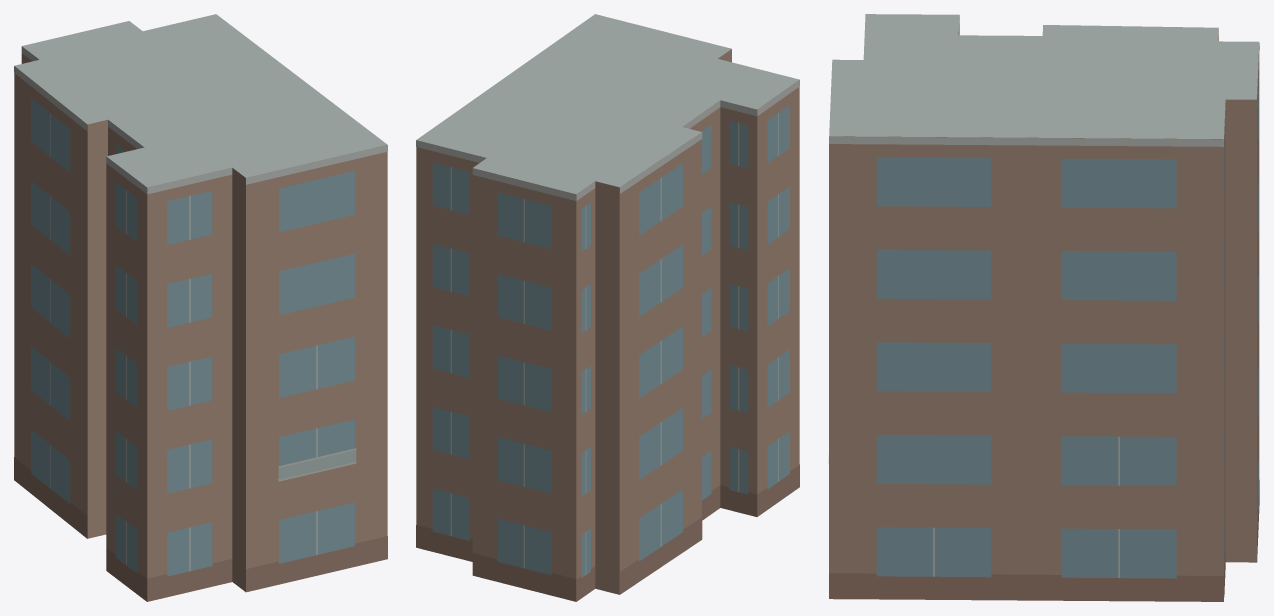
File: survey-upis-32738840.glb
The picture shows the model from 3 angles, left to right: view 1: azimuth 30°, elevation 25°; view 2: azimuth 150°, elevation 25°; view 3: azimuth 270°, elevation 25°; orthographic projection. The views are drawn at different scales.
Visible parts, largest first — view 1: survey-upis-32738840.tmp; view 2: survey-upis-32738840.tmp; view 3: survey-upis-32738840.tmp.
Part boxes in pixels (bbox=[...]): survey-upis-32738840.tmp: bbox=[14, 14, 387, 601]; survey-upis-32738840.tmp: bbox=[416, 14, 799, 601]; survey-upis-32738840.tmp: bbox=[828, 14, 1259, 601].
Bounding box in the file's own units: 8.48 × 14.6 × 12.33.
